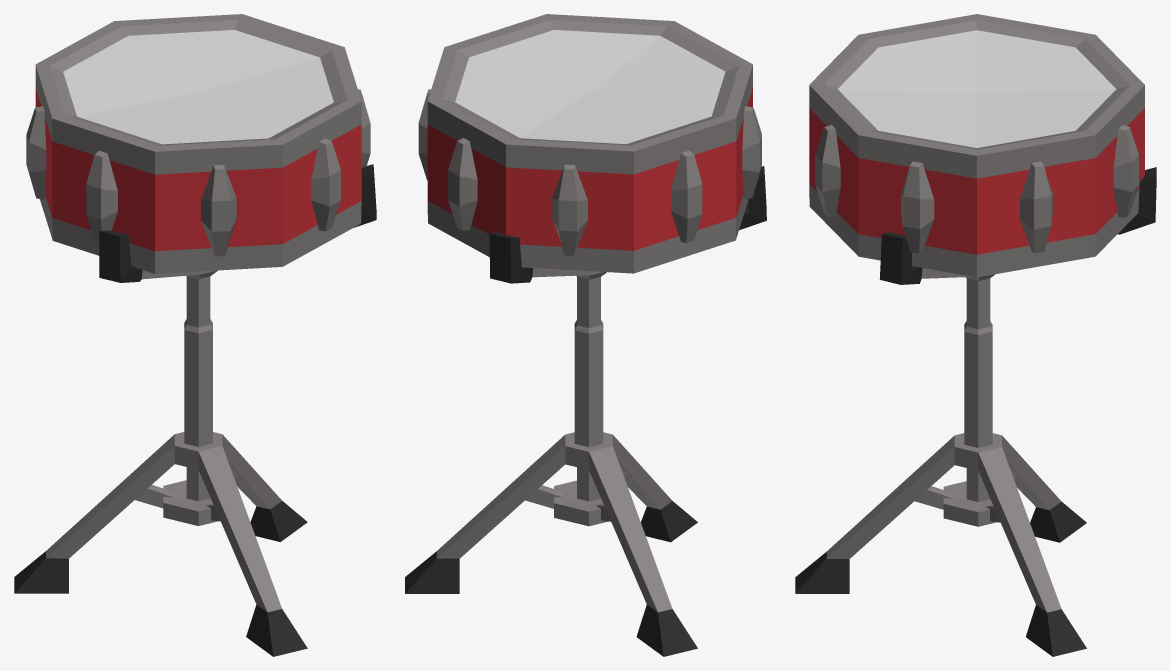
The model's file is drum-snare.glb.
3 renders of one model, left to right at view 1: azimuth 30°, elevation 25°; view 2: azimuth 150°, elevation 25°; view 3: azimuth 270°, elevation 25°, orthographic.
Visible parts, largest first — view 1: drum-snare; view 2: drum-snare; view 3: drum-snare.
Boxes of the visible parts, bbox=[...] form: drum-snare: bbox=[14, 14, 376, 656]; drum-snare: bbox=[405, 14, 766, 656]; drum-snare: bbox=[795, 14, 1156, 656].
Size of the model in its own units: 0.4017 by 0.6577 by 0.4307.
Materials: 1 (1 with a texture image).
